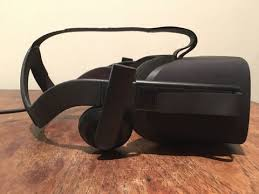oculus: (80, 53, 253, 154)
